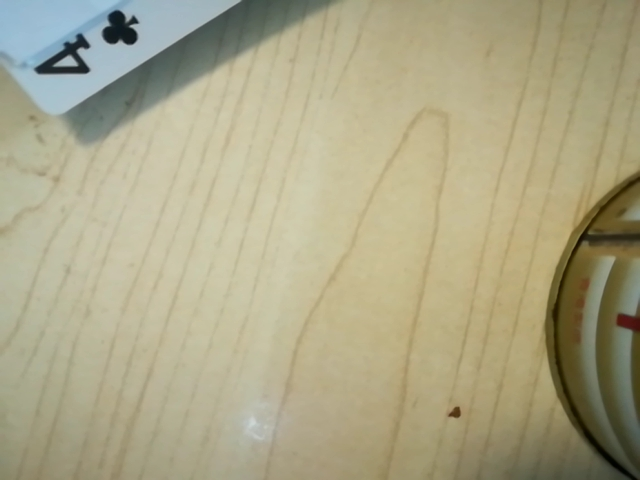mh 4: (14, 0, 164, 90)
